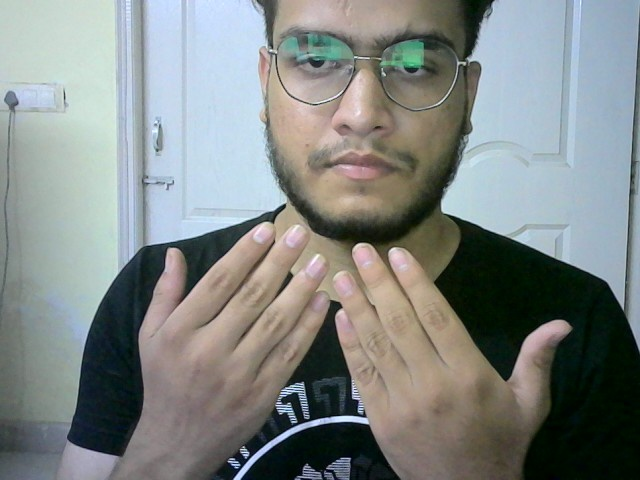Thank You: (145, 218, 576, 480)
